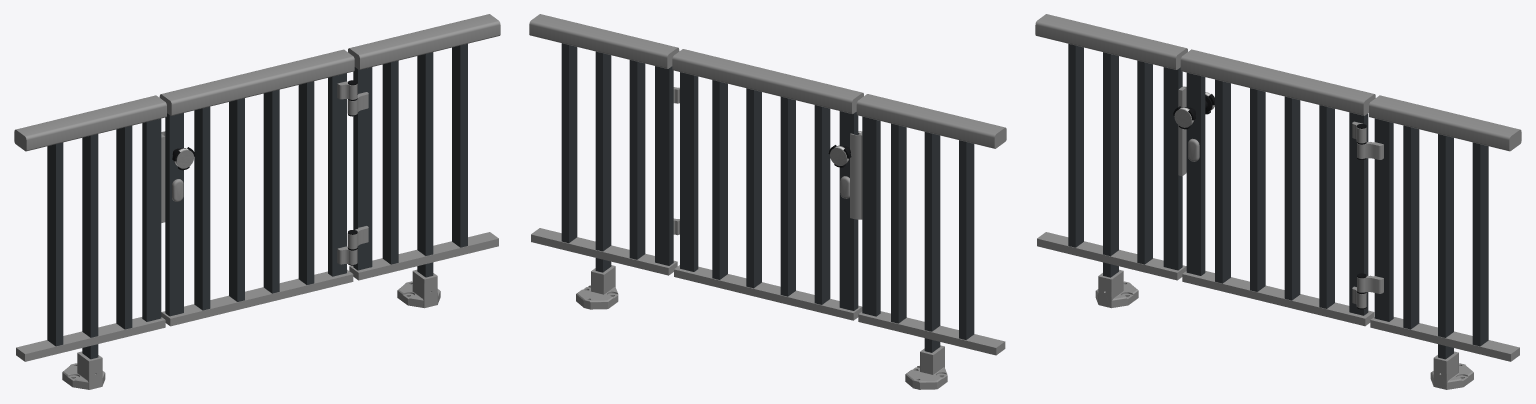
3 views of the same model, side by side, from view 1: azimuth 30°, elevation 25°; view 2: azimuth 150°, elevation 25°; view 3: azimuth 330°, elevation 25° (orthographic).
Visible parts, largest first — view 1: Rectangle644, Box2056, Rectangle642, Rectangle646, Box2046, Box2047, Box2058, Box2066, Box2067, Box2061, Box2062, Box2065 (+11 smaller); view 2: Rectangle644, Box2059, Box2056, Box2058, Rectangle642, Box2046, Box2047, Rectangle646, Box2060, Box2061, Box2065, Box2063 (+11 smaller); view 3: Rectangle644, Rectangle646, Box2059, Rectangle642, Box2057, Box2056, Box2060, Box2061, Box2063, Box2046, Box2047, Box2062 (+13 smaller).
Part boxes in pixels (x1,y1,x2,y2): Rectangle644: [159, 49, 354, 115]; Box2056: [142, 118, 161, 321]; Rectangle642: [14, 95, 166, 151]; Rectangle646: [348, 14, 500, 69]; Box2046: [82, 134, 98, 359]; Box2047: [417, 52, 433, 277]; Box2058: [328, 73, 346, 276]; Box2066: [116, 125, 132, 329]; Box2067: [47, 142, 63, 346]; Box2061: [382, 60, 398, 264]; Box2062: [298, 81, 314, 284]; Box2065: [194, 106, 210, 310]; Rectangle644: [672, 49, 863, 113]; Box2059: [655, 66, 673, 265]; Box2056: [862, 116, 880, 316]; Box2058: [680, 72, 698, 271]; Rectangle642: [856, 94, 1006, 148]; Box2046: [924, 132, 940, 352]; Box2047: [595, 51, 611, 272]; Rectangle646: [529, 14, 679, 68]; Box2060: [561, 43, 577, 243]; Box2061: [629, 60, 645, 259]; Box2065: [814, 105, 830, 304]; Box2063: [746, 88, 761, 288]; Rectangle644: [1180, 49, 1375, 115]; Rectangle646: [1369, 95, 1521, 151]; Box2059: [1374, 118, 1393, 321]; Rectangle642: [1035, 14, 1187, 69]; Box2057: [1186, 72, 1205, 275]; Box2056: [1163, 67, 1182, 270]; Box2060: [1472, 142, 1488, 346]; Box2061: [1403, 125, 1419, 329]; Box2063: [1284, 96, 1300, 300]; Box2046: [1103, 52, 1118, 277]; Box2047: [1438, 134, 1453, 359]; Box2062: [1319, 105, 1334, 308].
Bounding box in the file's own units: 1366 × 738 × 141.
4 materials, 3 textured.
